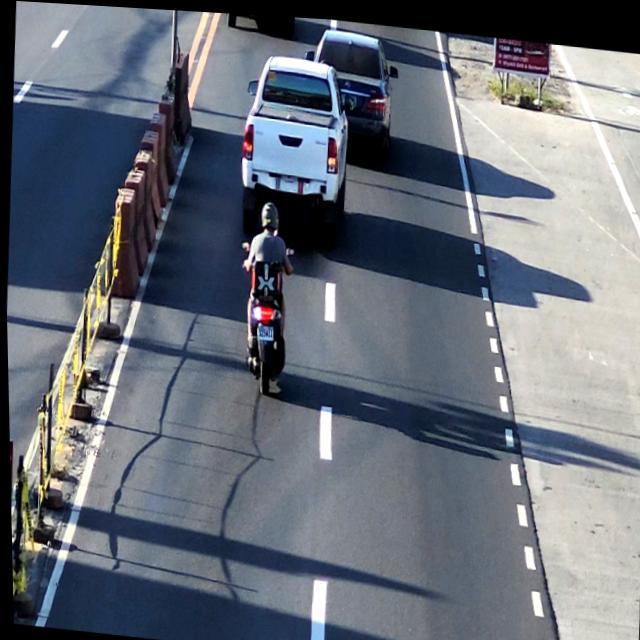Car: (237, 51, 351, 214), (310, 23, 397, 135)
License-Plate: (252, 322, 274, 337)
Motorcycle: (234, 196, 291, 392)
